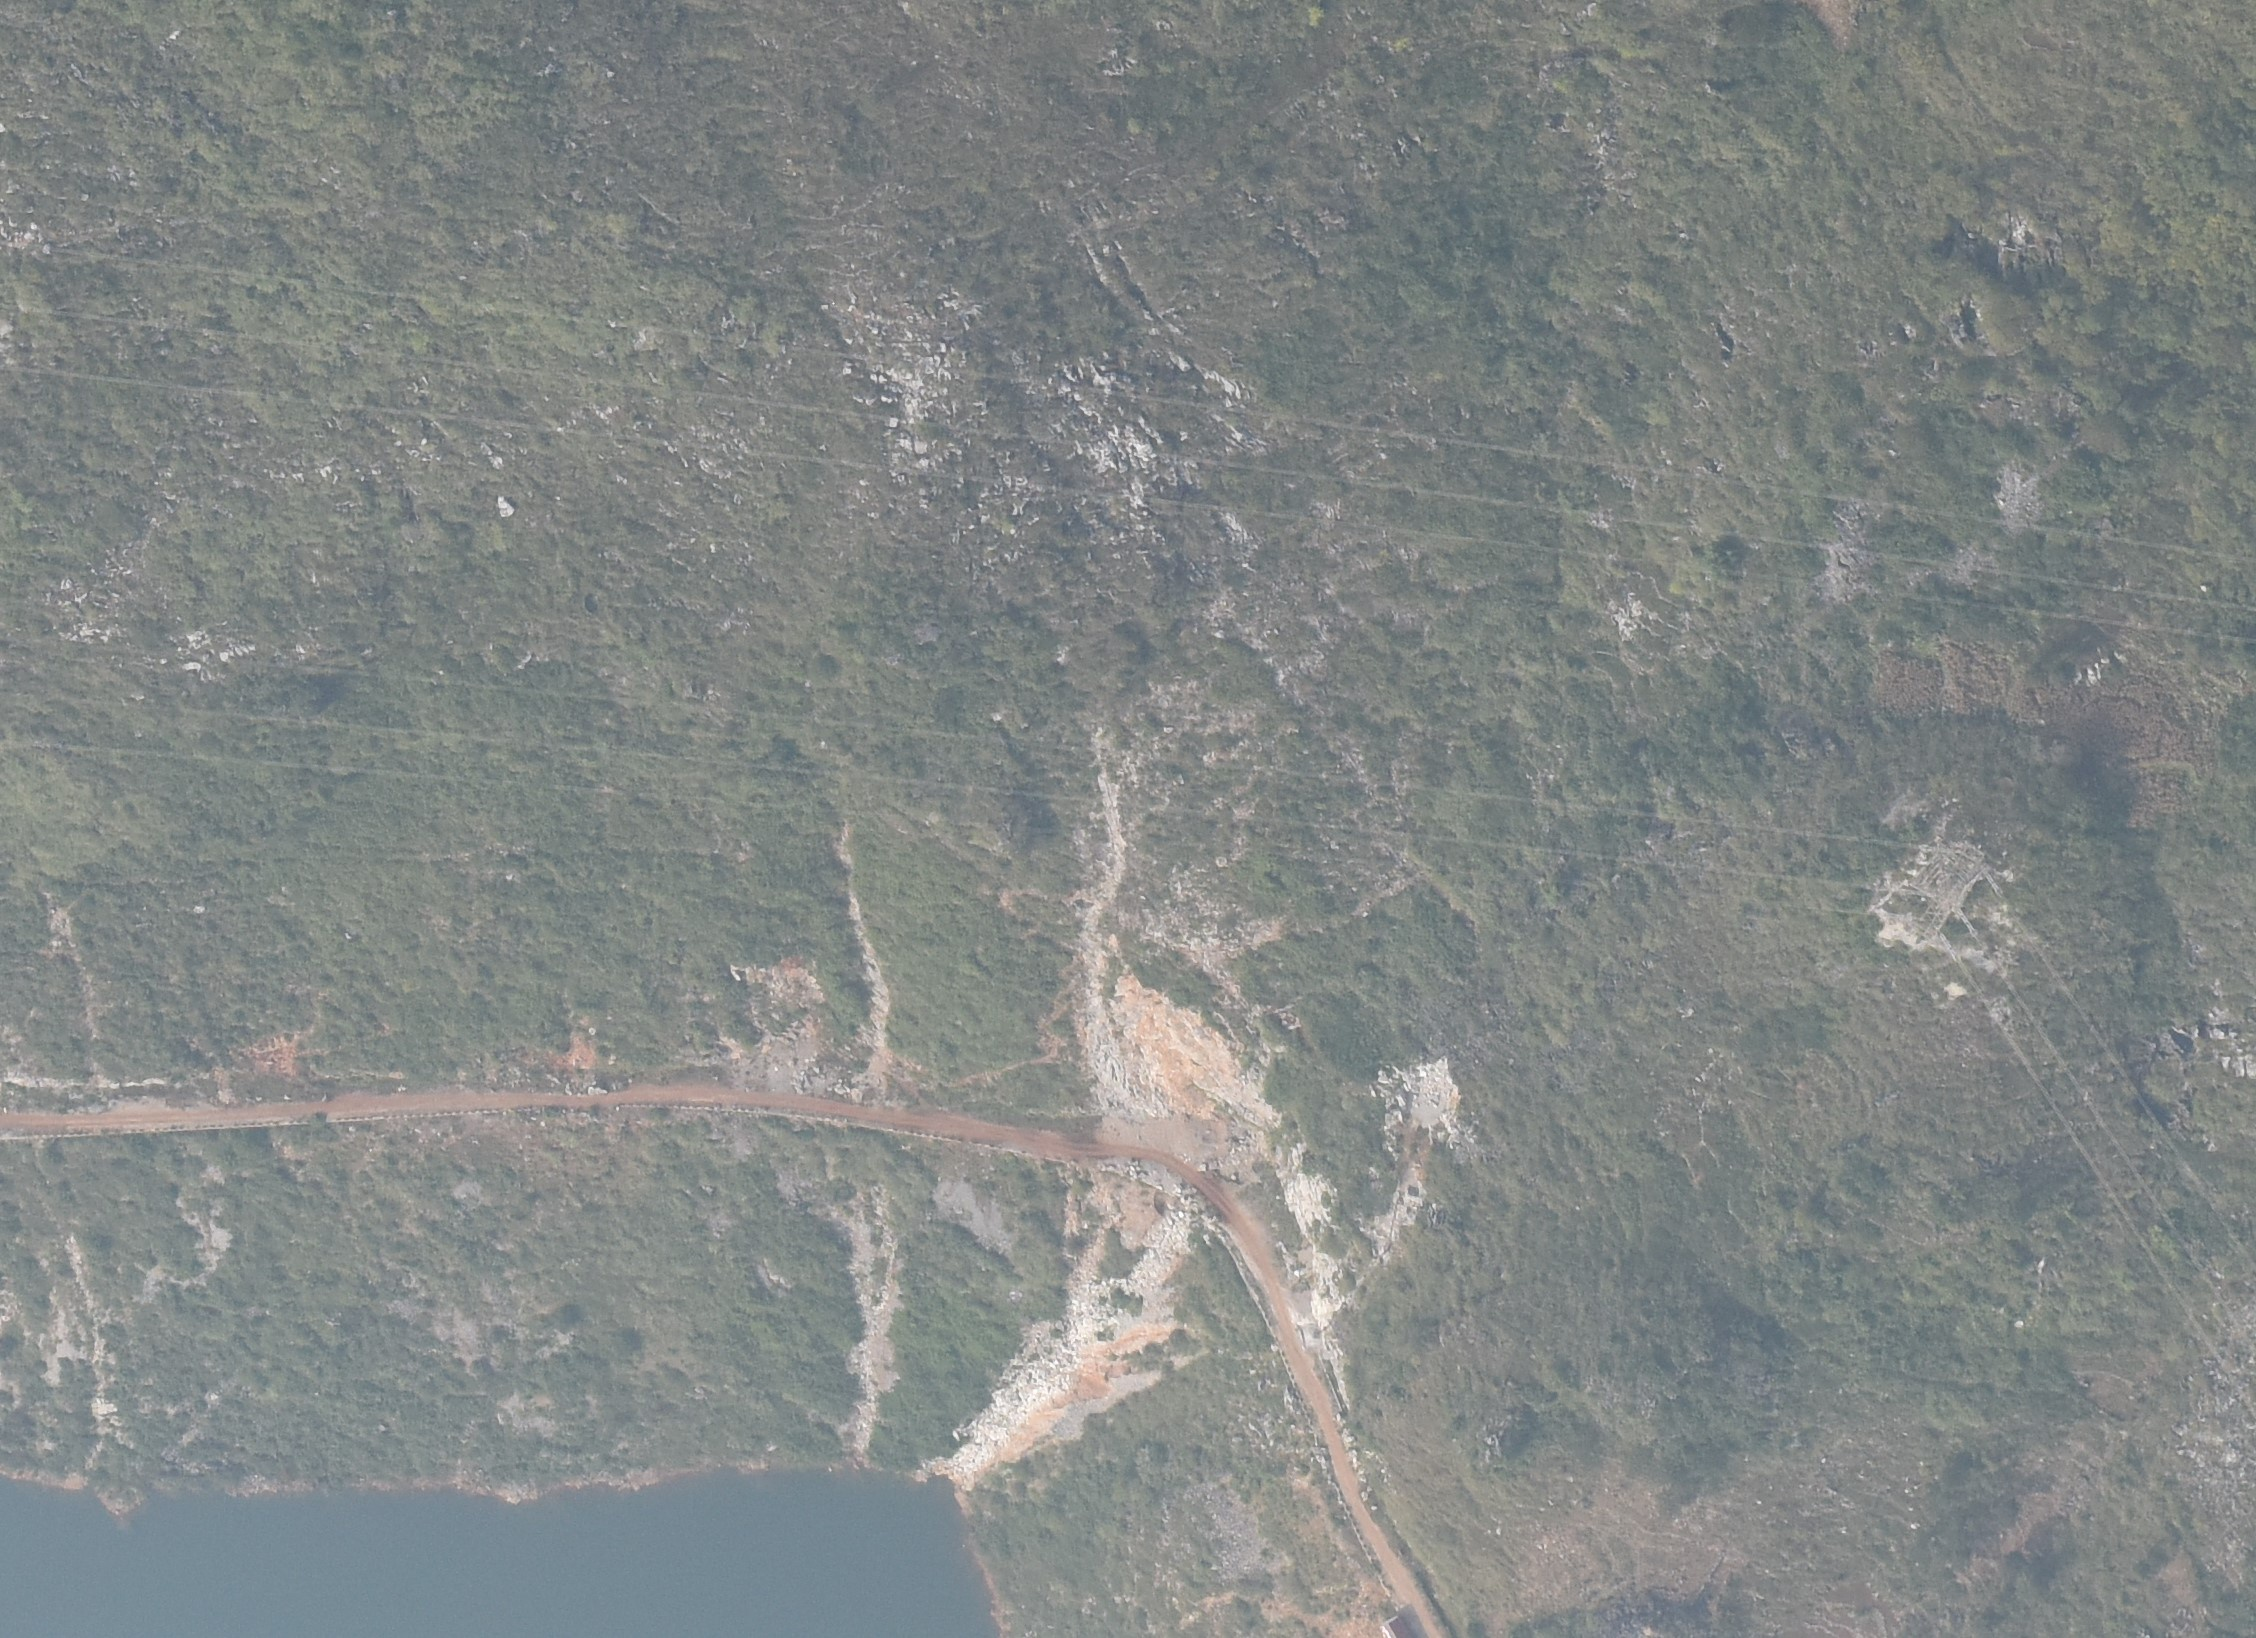cable-tower: (1865, 841, 1986, 941)
landslide: (928, 1168, 1191, 1491), (1089, 964, 1282, 1125), (846, 1190, 900, 1473), (734, 964, 820, 1098)
